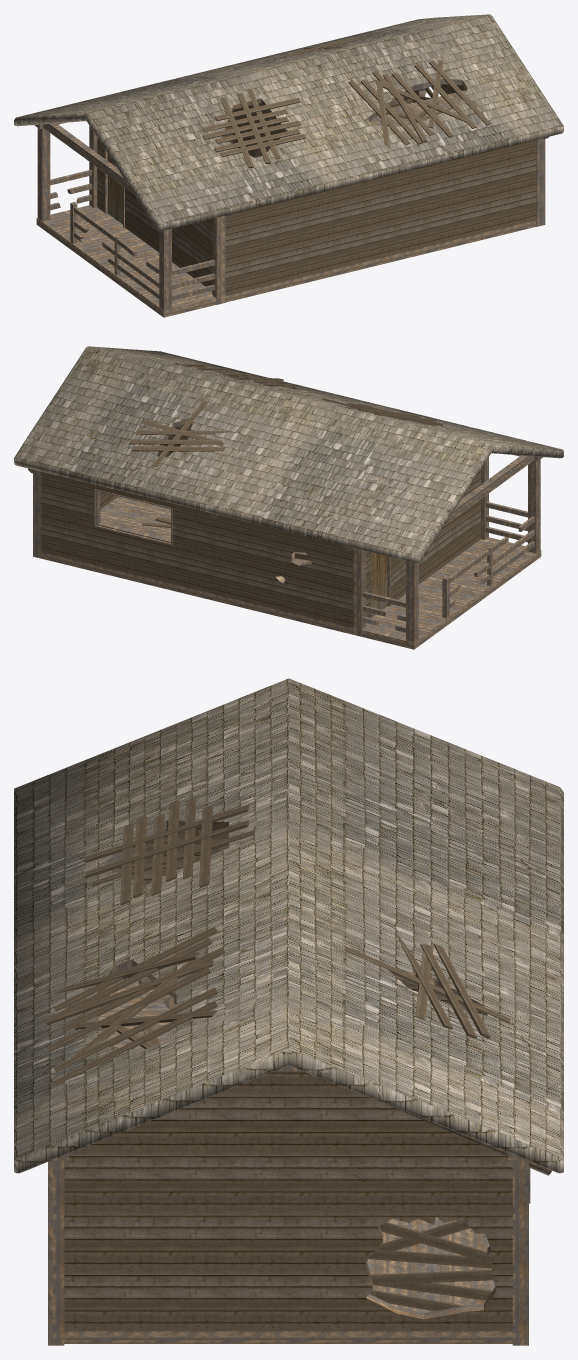
Rendered from Cabaña.dae.
The picture shows the model from 3 angles, top to bottom: view 1: azimuth 30°, elevation 25°; view 2: azimuth 150°, elevation 25°; view 3: azimuth 270°, elevation 25°; orthographic projection. The views are drawn at different scales.
Visible parts, largest first — view 1: Cylinder, Cube.020, Cube.024, Cube.007, Cube.005; view 2: Cylinder, Cube.005, Cube.007, Cube.020, Cube.024; view 3: Cylinder, Cube.020, Cube.024, Cube.009, Cube.005.
Boxes of the visible parts, bbox=[...] form: Cylinder: bbox=[14, 14, 563, 317]; Cube.020: bbox=[348, 60, 490, 149]; Cube.024: bbox=[202, 88, 305, 167]; Cube.007: bbox=[108, 154, 122, 224]; Cube.005: bbox=[273, 37, 366, 59]; Cylinder: bbox=[14, 346, 563, 649]; Cube.005: bbox=[129, 401, 228, 466]; Cube.007: bbox=[372, 552, 387, 616]; Cube.020: bbox=[175, 363, 311, 390]; Cube.024: bbox=[322, 398, 442, 425]; Cylinder: bbox=[14, 678, 563, 1345]; Cube.020: bbox=[46, 926, 225, 1084]; Cube.024: bbox=[84, 797, 255, 905]; Cube.009: bbox=[369, 1221, 493, 1311]; Cube.005: bbox=[345, 935, 510, 1038].
Size of the model in its own units: 26.34 by 16.37 by 10.02.
4 materials, 4 textured.
